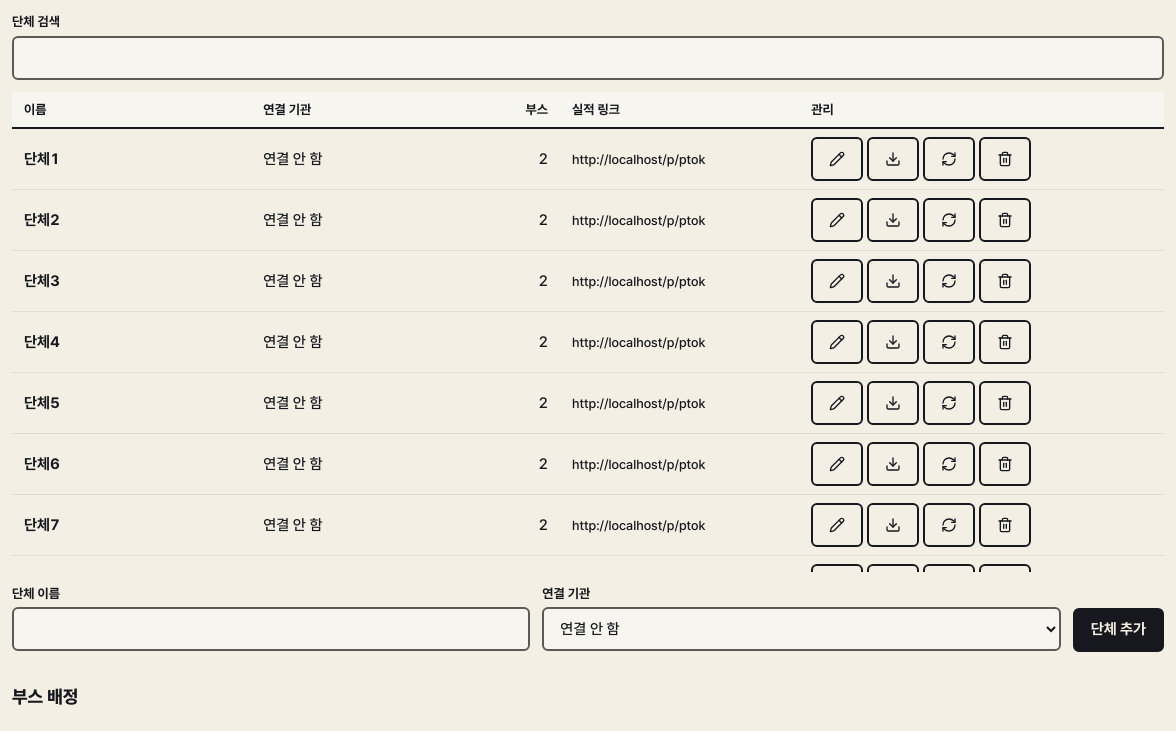
it: 운영 단체 목록 검색·스크롤 › 10개부터 목록을 스크롤로 담고 이름·연결 기관으로 검색한다
Type "사랑" into the search field labelled "단체 검색" at point(588, 58), box [12,36,1164,80]
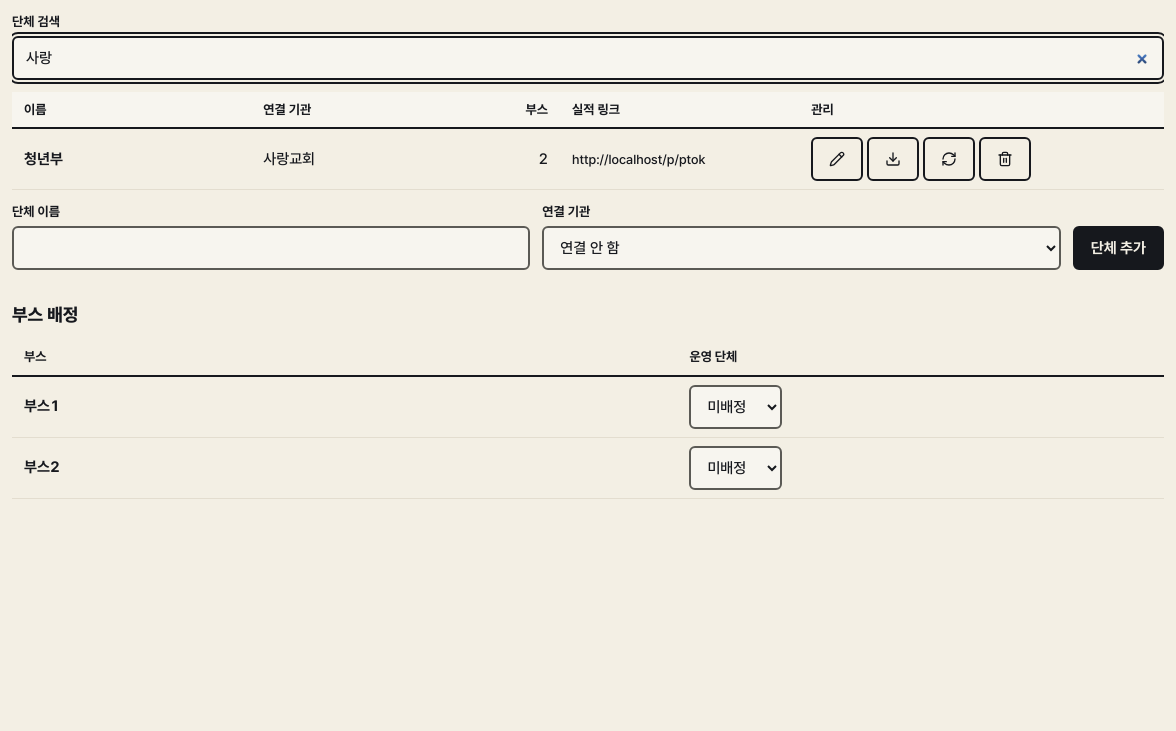
Result: the text "청년부" is shown at [24,150,63,168]
Result: the text "단체1" is gone
Replace the text in the search field labelled "단체 검색" with "없는 이름" at point(588, 58), box [12,36,1164,80]
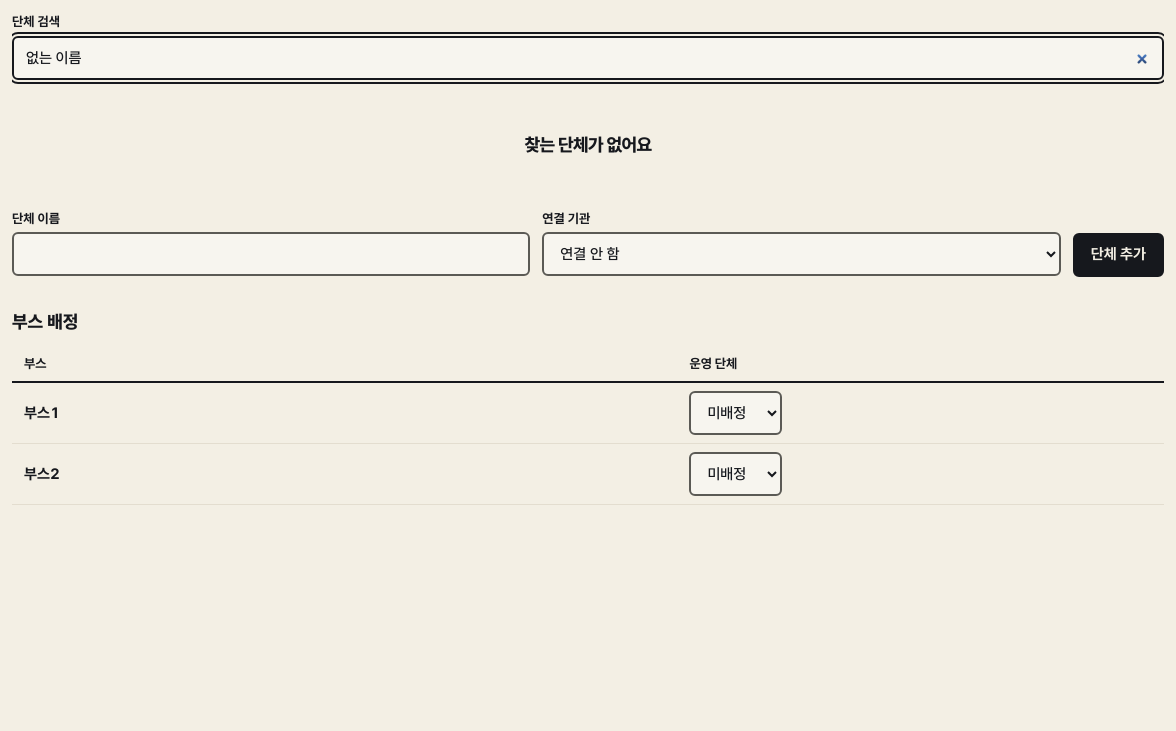
Result: the text "찾는 단체가 없어요" is shown at [524,134,652,154]
